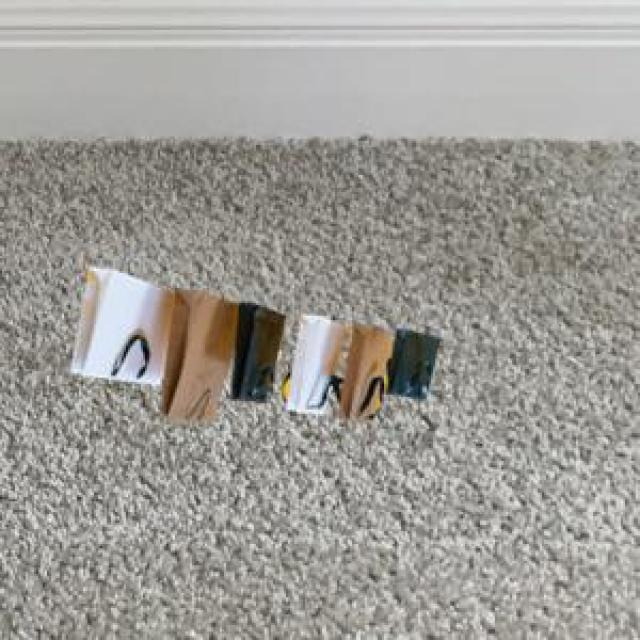paper: (66, 262, 437, 420)
